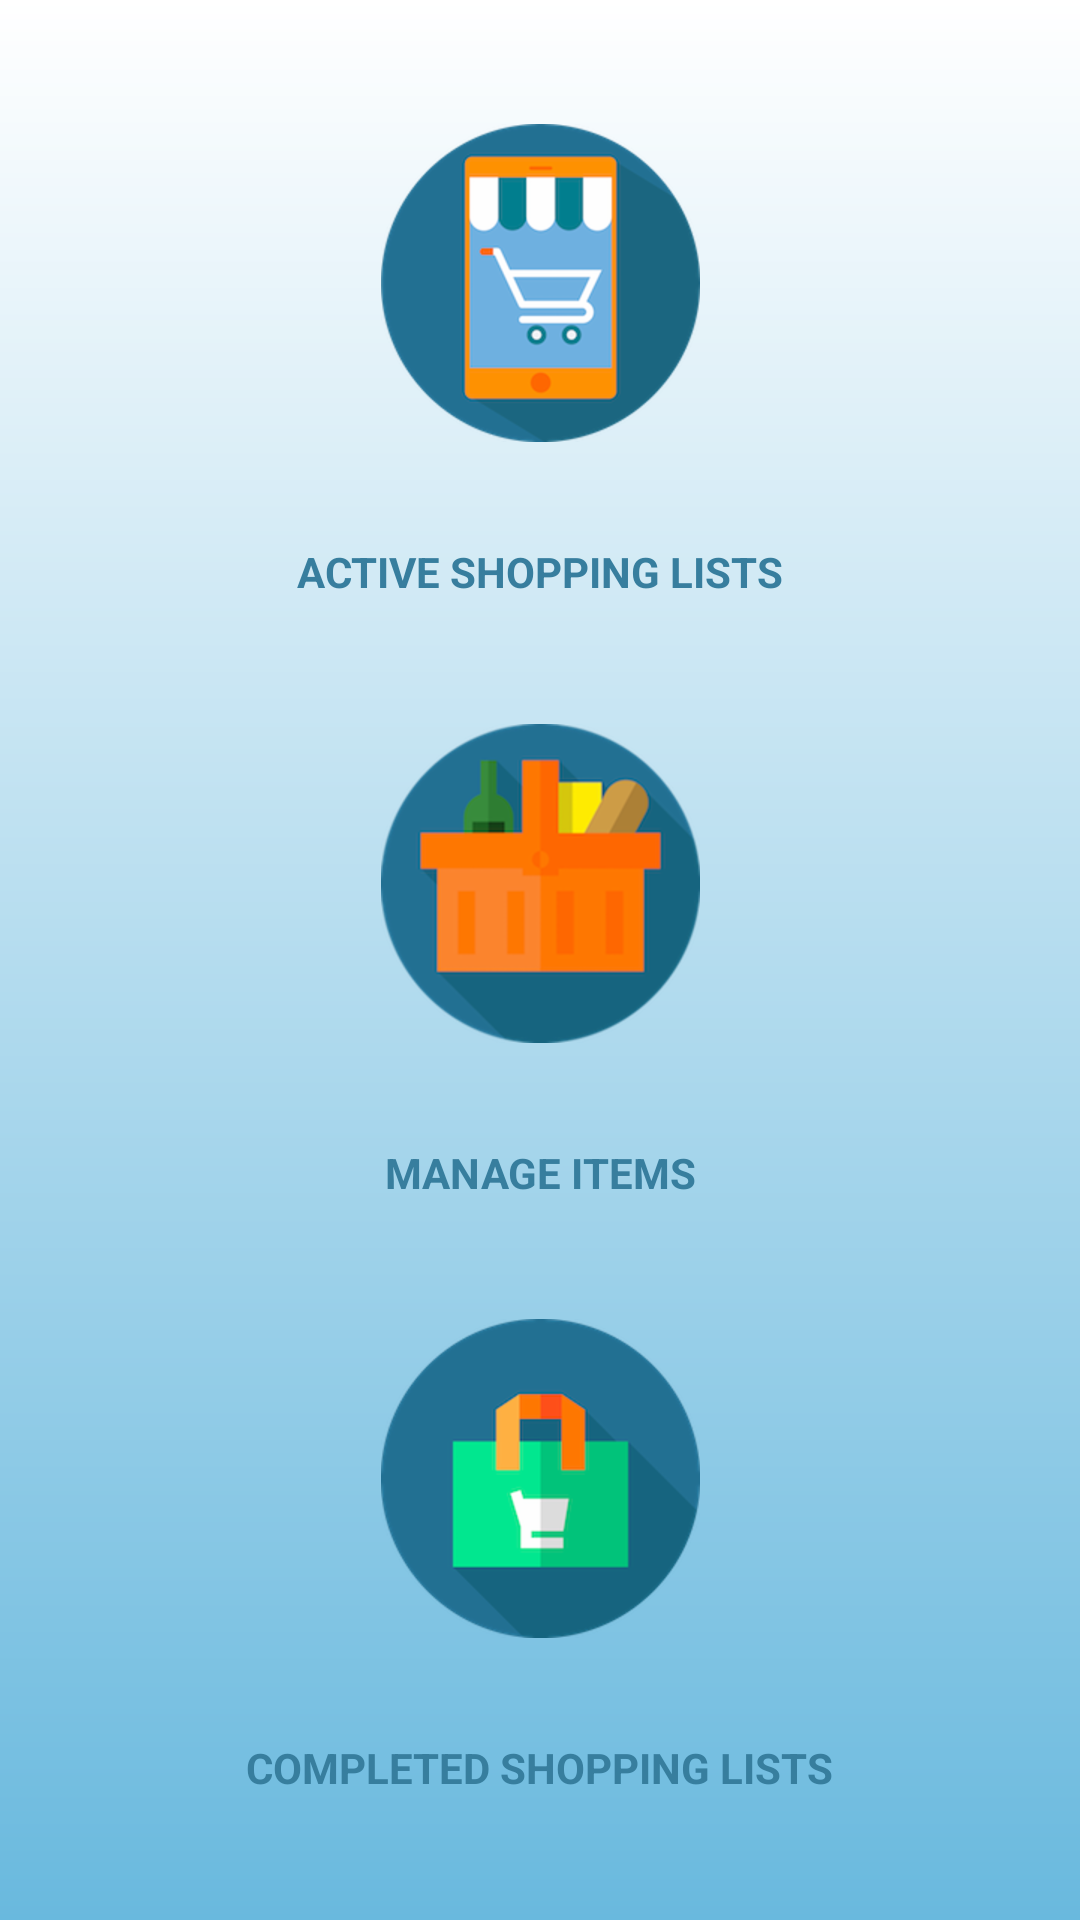

Screen size 1080px x 1920px. Icon name, then its box in pixels as (x1=x1, y1=y1, x2=x2, y2=y2):
seeItemsBtn img: (x1=381, y1=724, x2=700, y2=1043)
